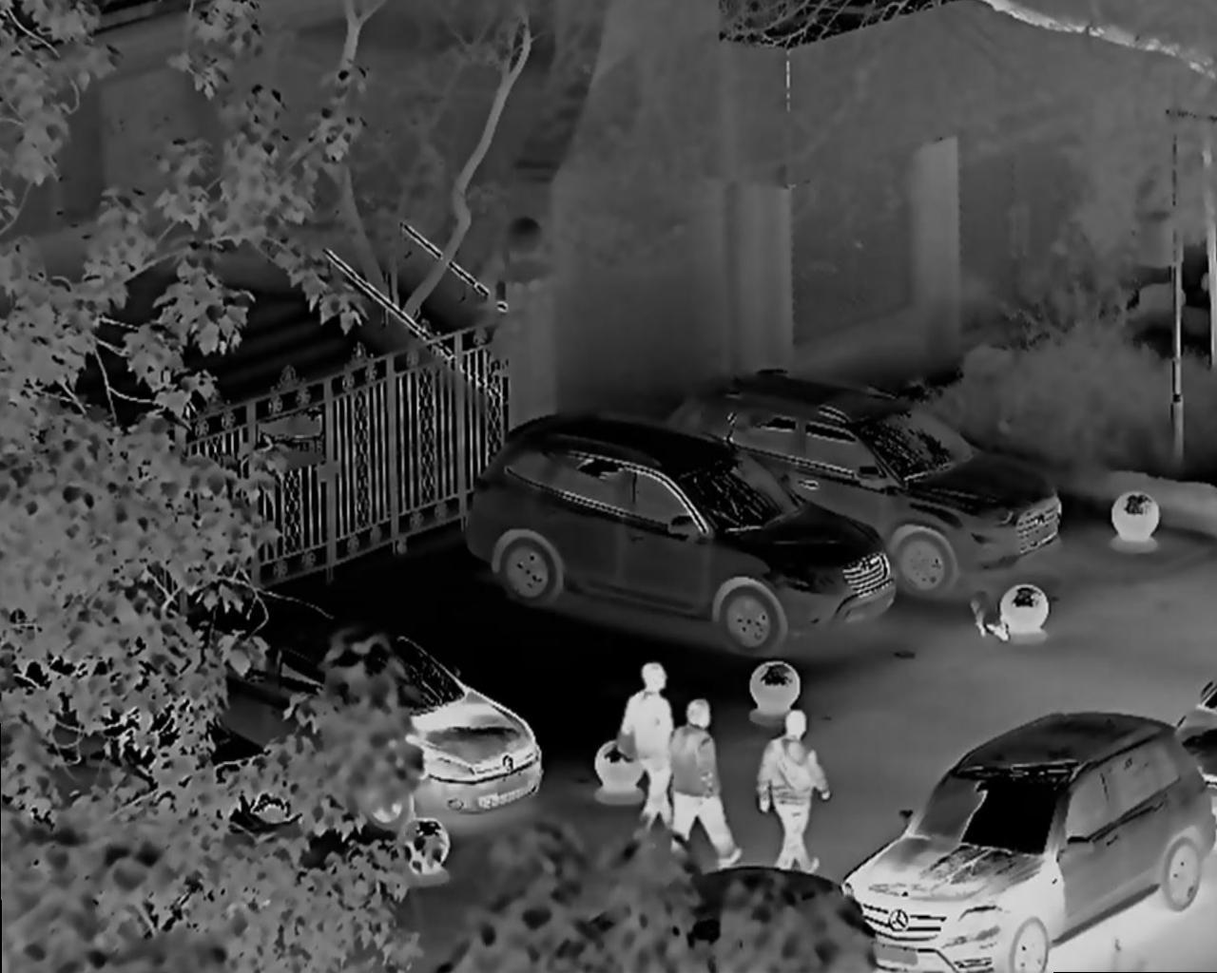person: (759, 706, 840, 865), (675, 699, 744, 864), (619, 653, 682, 821)
